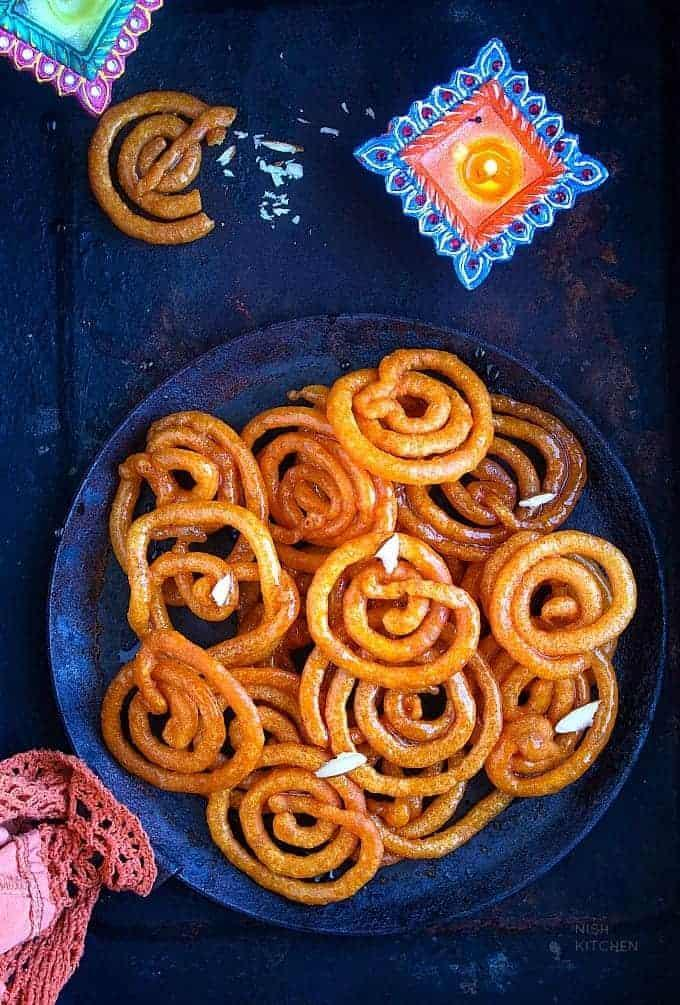jalebi: (100, 336, 648, 877), (82, 99, 250, 244)
